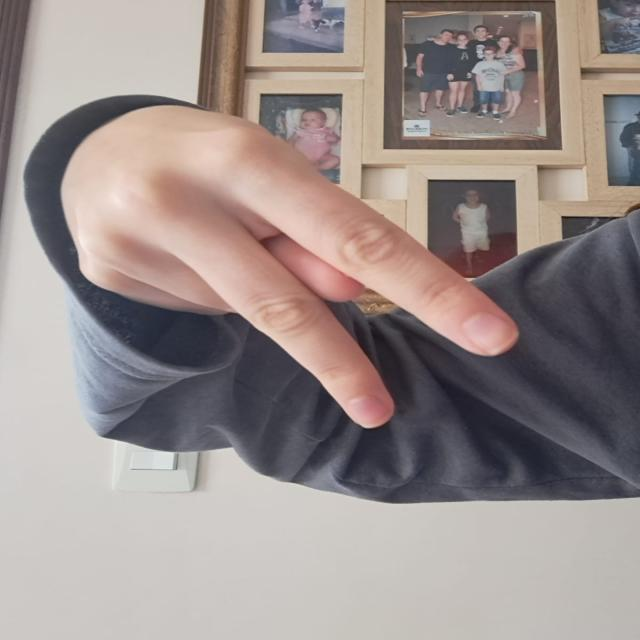P: (85, 94, 515, 436)
